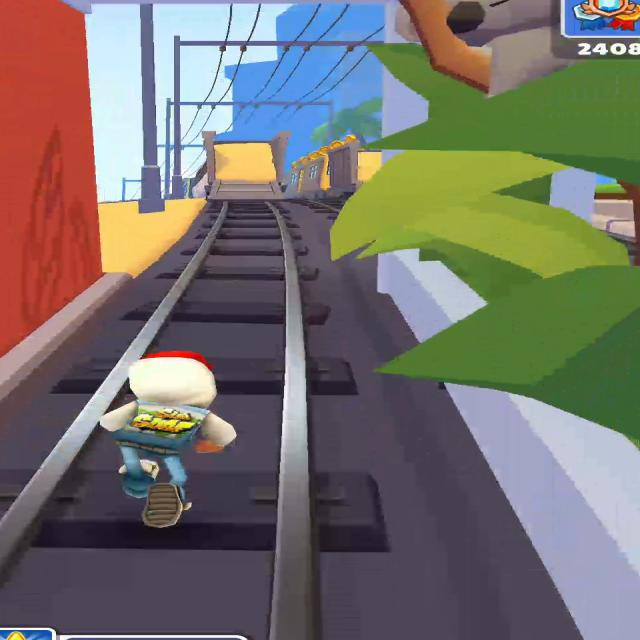block pillar: (331, 0, 639, 640)
climber: (211, 142, 281, 200), (357, 151, 381, 186)
train: (284, 138, 363, 198)
